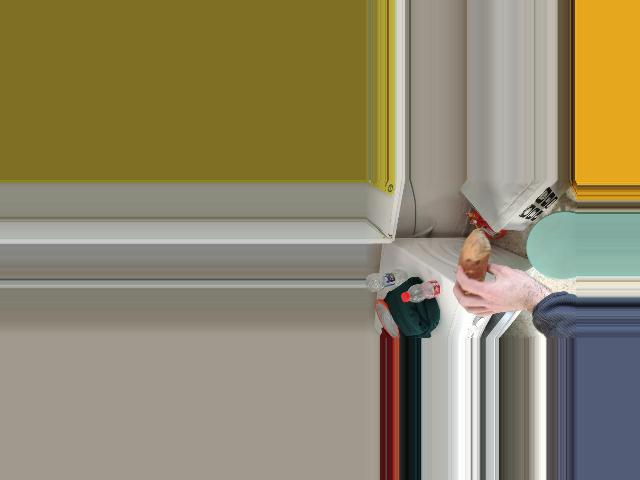sweet_potato: (462, 241, 483, 288)
